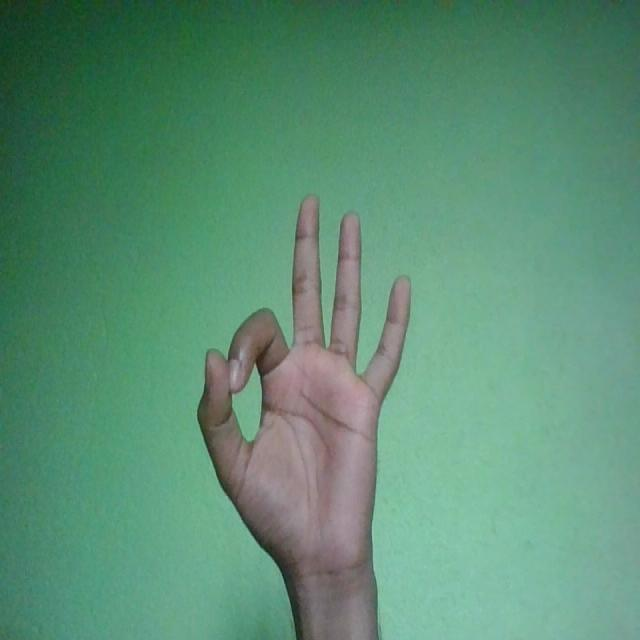Rock On: (198, 192, 412, 591)
